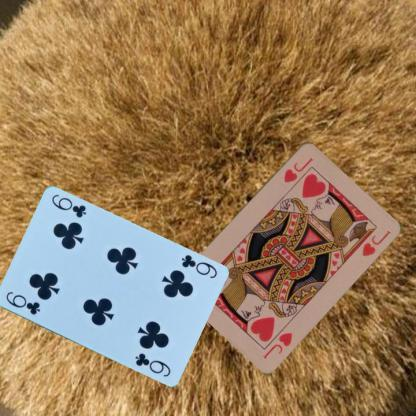6c: (178, 252, 218, 280), (3, 289, 41, 316)
Jh: (260, 329, 294, 360), (281, 154, 314, 184)
